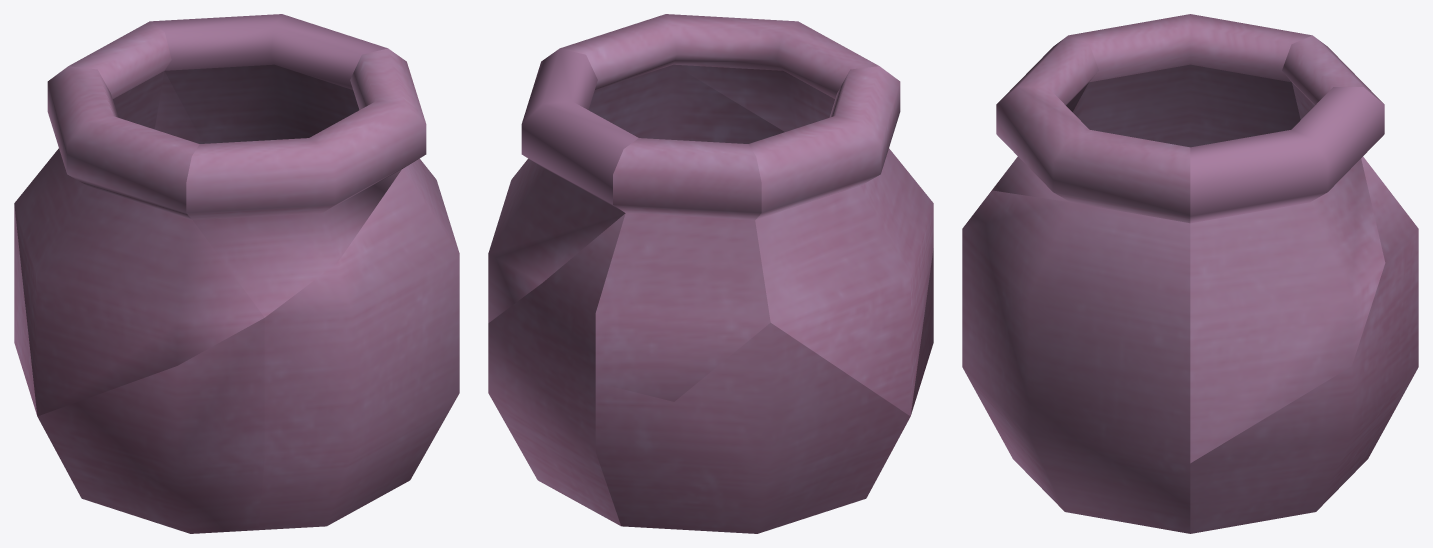
Rendered from Small Broken Pot.fbx.
The picture shows the model from 3 angles, left to right: view 1: azimuth 30°, elevation 25°; view 2: azimuth 150°, elevation 25°; view 3: azimuth 270°, elevation 25°; orthographic projection.
Visible parts, largest first — view 1: Small_Pot_Piece_7, Small_Pot_Piece_4, Small_Pot_Piece_6, Small_Pot_Piece_1, Small_Pot_Piece_3, Small_Pot_Piece_5, Small_Pot_Piece_8, Small_Pot_Piece_2; view 2: Small_Pot_Piece_8, Small_Pot_Piece_4, Small_Pot_Piece_5, Small_Pot_Piece_2, Small_Pot_Piece_3, Small_Pot_Piece_6, Small_Pot_Piece_7, Small_Pot_Piece_1; view 3: Small_Pot_Piece_7, Small_Pot_Piece_3, Small_Pot_Piece_2, Small_Pot_Piece_4, Small_Pot_Piece_6, Small_Pot_Piece_5.
Part boxes in pixels (box(x1,y1,x2,y2)): Small_Pot_Piece_7: box(258, 158, 459, 529); Small_Pot_Piece_4: box(14, 66, 264, 416); Small_Pot_Piece_6: box(186, 48, 426, 317); Small_Pot_Piece_1: box(37, 318, 264, 533); Small_Pot_Piece_3: box(150, 14, 387, 143); Small_Pot_Piece_5: box(68, 21, 171, 129); Small_Pot_Piece_8: box(14, 205, 37, 415); Small_Pot_Piece_2: box(154, 71, 203, 143); Small_Pot_Piece_8: box(595, 322, 910, 533); Small_Pot_Piece_4: box(748, 66, 933, 416); Small_Pot_Piece_5: box(595, 138, 770, 401); Small_Pot_Piece_2: box(488, 213, 625, 525); Small_Pot_Piece_3: box(488, 48, 638, 322); Small_Pot_Piece_6: box(560, 14, 879, 131); Small_Pot_Piece_7: box(588, 64, 784, 143); Small_Pot_Piece_1: box(910, 248, 933, 415); Small_Pot_Piece_7: box(962, 190, 1190, 533); Small_Pot_Piece_3: box(1190, 87, 1385, 463); Small_Pot_Piece_2: box(1190, 156, 1418, 533); Small_Pot_Piece_4: box(1068, 14, 1312, 147); Small_Pot_Piece_6: box(992, 35, 1190, 223); Small_Pot_Piece_5: box(1282, 35, 1383, 119).
Bounding box in the file's own units: 0.4354 × 0.3912 × 0.4354.
1 material, 1 textured.
